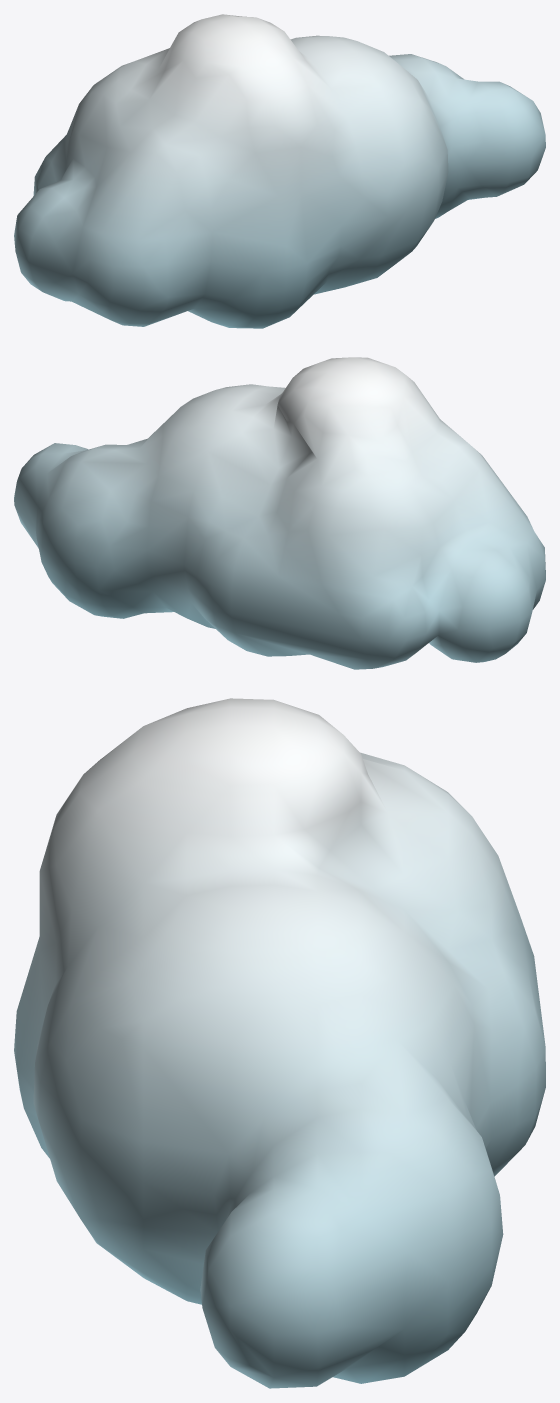
File: SM_Cloud_Longer.fbx
The picture shows the model from 3 angles, top to bottom: view 1: azimuth 30°, elevation 25°; view 2: azimuth 150°, elevation 25°; view 3: azimuth 270°, elevation 25°; orthographic projection. The views are drawn at different scales.
Parts seen in each view (by area): view 1: SM_Cloud_Longer; view 2: SM_Cloud_Longer; view 3: SM_Cloud_Longer.
Part boxes in pixels (left/top/right/bottom): SM_Cloud_Longer: left=14, top=14, right=545, bottom=328; SM_Cloud_Longer: left=14, top=357, right=545, bottom=669; SM_Cloud_Longer: left=14, top=698, right=545, bottom=1388.
Size of the model in its own units: 110 by 57.17 by 55.78.
